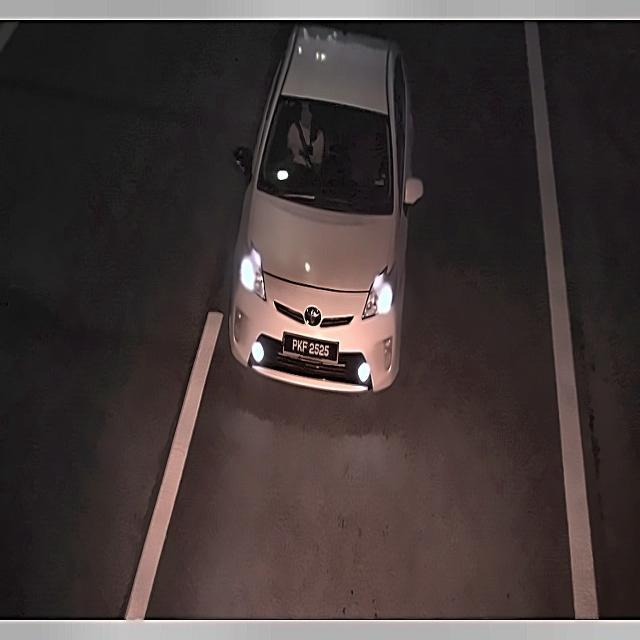car: (281, 328, 339, 366)
